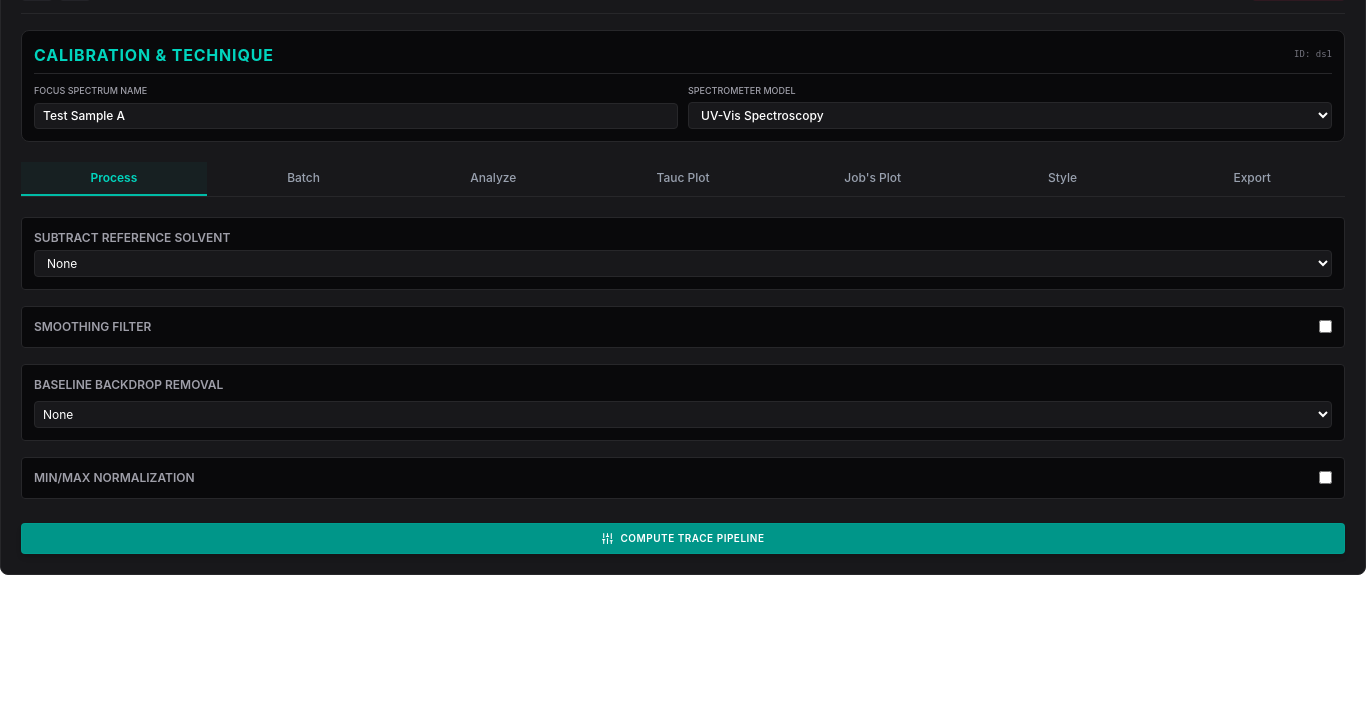
Test: SpectrumInspector — Batch Processing (peak detection + fitting) › detects and fits peaks across selected datasets end-to-end
This screenshot has width=1366, height=724.
Click the button "batch" at [304, 178], box [211, 162, 396, 196]
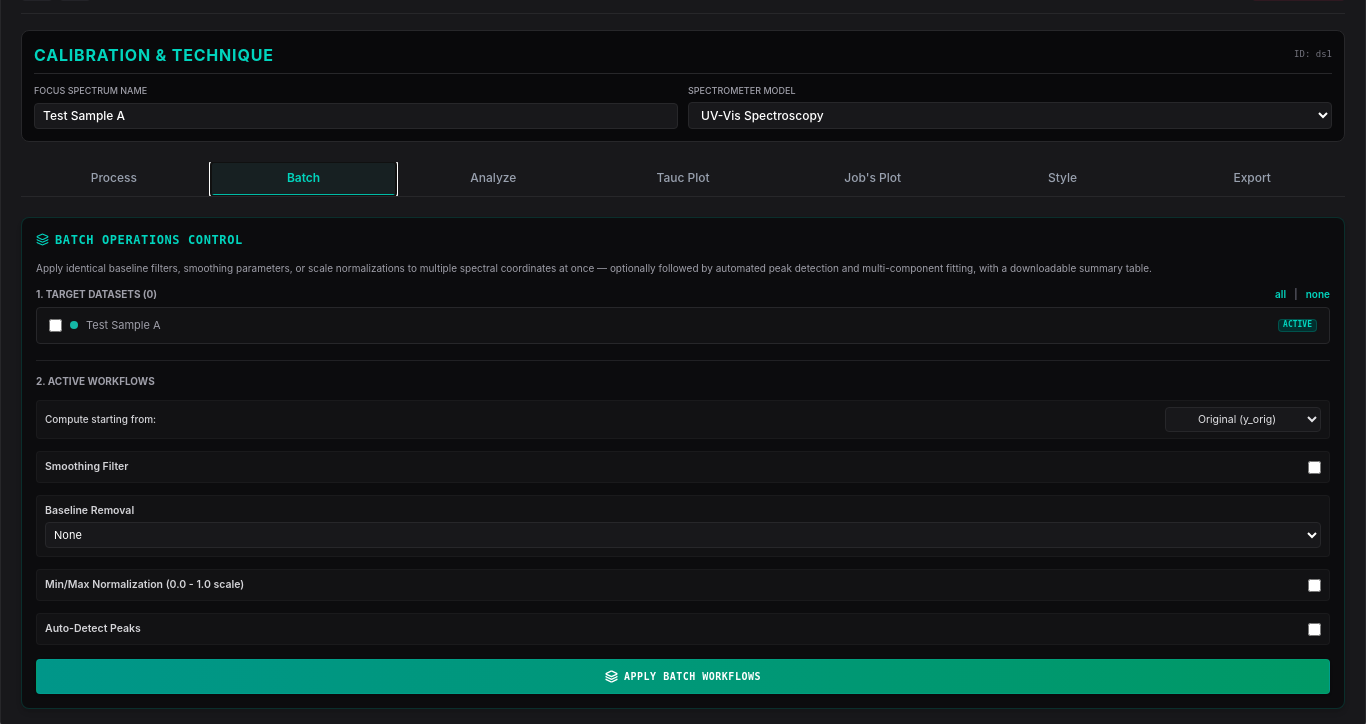
Click the button "all" at [1280, 294], box [1275, 288, 1286, 301]
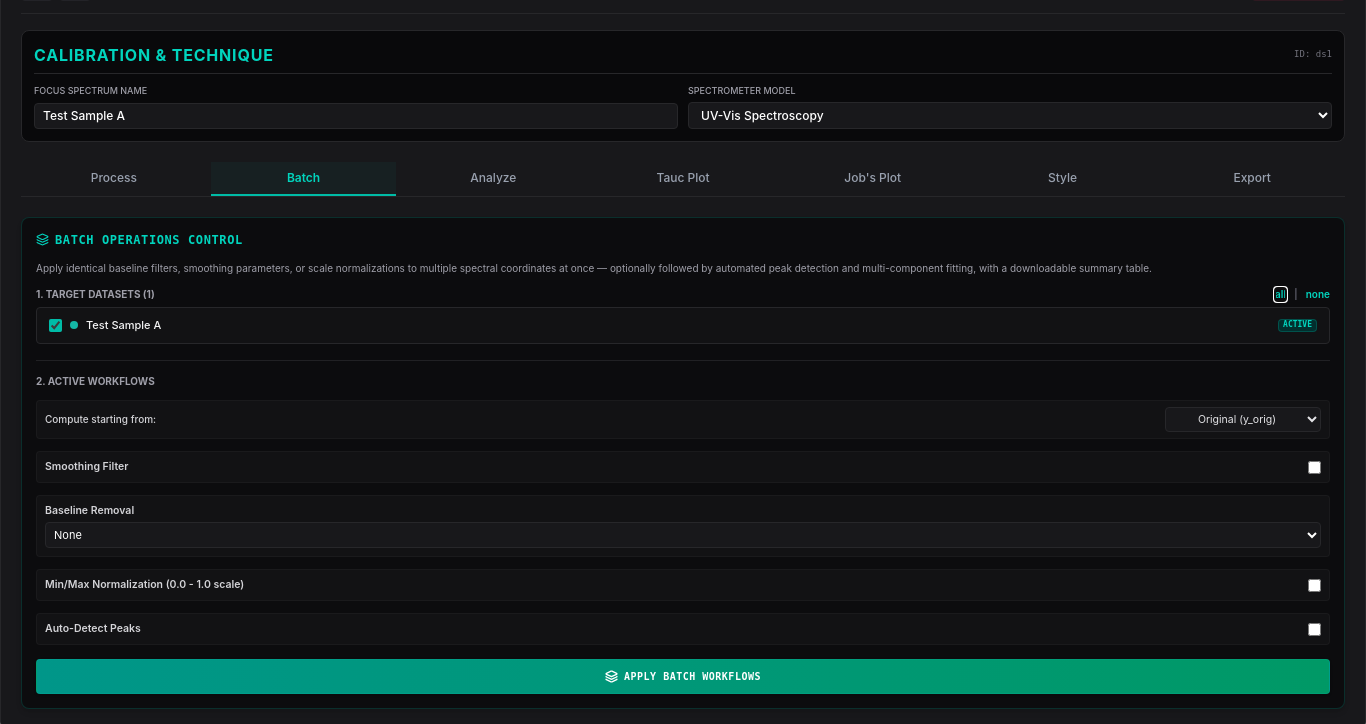
Click the checkbox in the row of "Auto-Detect Peaks" at [1314, 629], box [1308, 623, 1321, 636]
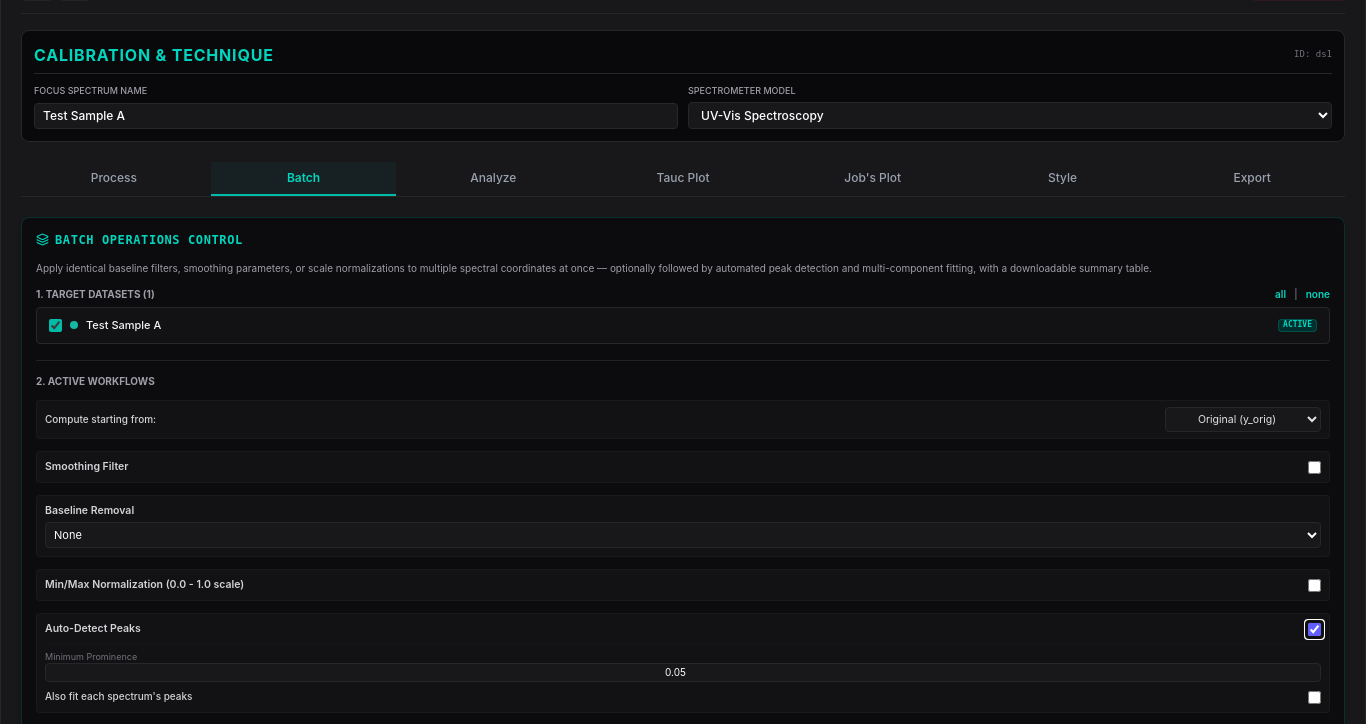
Click the checkbox in the row of "Also fit each spectrum's peaks" at [1314, 697], box [1308, 690, 1321, 704]
(page scrolled)
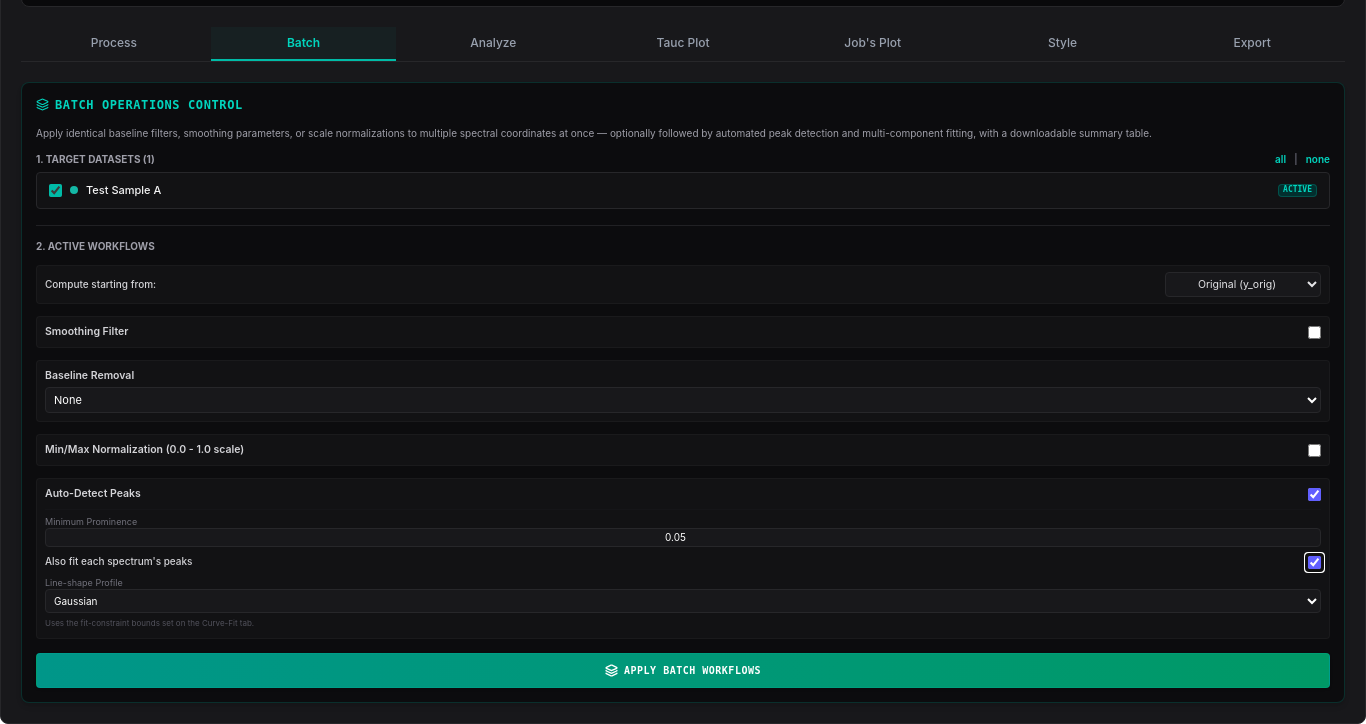
Click the button "Apply Batch Workflows" at [683, 670], box [36, 653, 1330, 688]
(page scrolled)
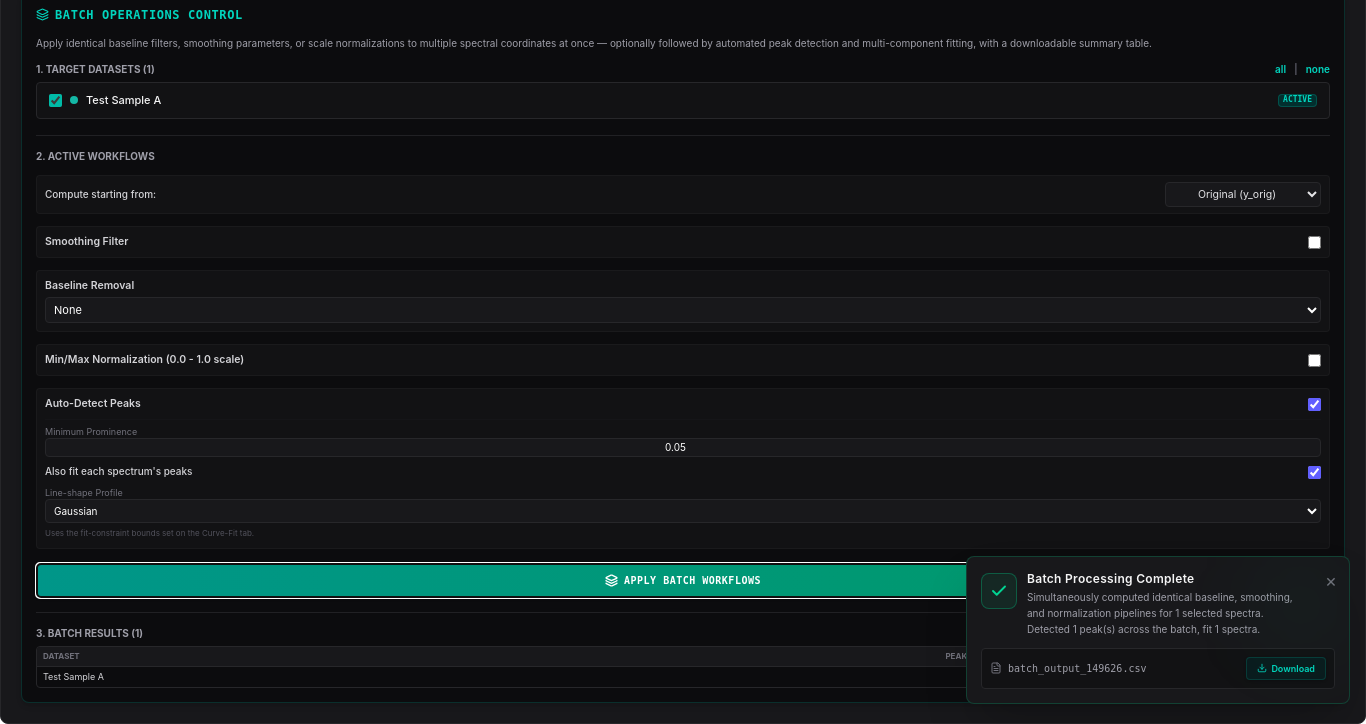
Expected: the text "3. Batch Results (1)" is shown, [36, 627, 143, 640]
